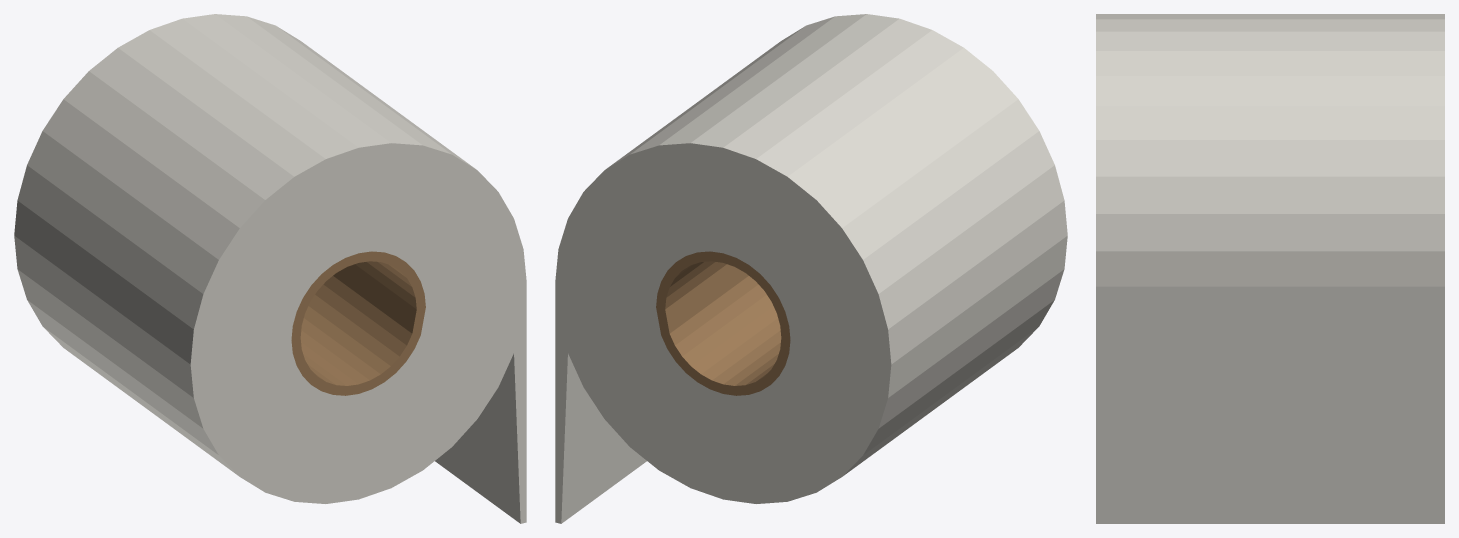
File: NEW_RECOVERY_033_LOD2.fbx
3 renders of one model, left to right at view 1: azimuth 30°, elevation 25°; view 2: azimuth 150°, elevation 25°; view 3: azimuth 270°, elevation 25°, orthographic.
Parts seen in each view (by area): view 1: Toilet_paper_roll; view 2: Toilet_paper_roll; view 3: Toilet_paper_roll.
Part boxes in pixels (x1=…): Toilet_paper_roll: x1=14, y1=14, x2=526, y2=523; Toilet_paper_roll: x1=555, y1=14, x2=1067, y2=523; Toilet_paper_roll: x1=1096, y1=14, x2=1444, y2=523.
Bounding box in the file's own units: 11 × 10 × 13.
